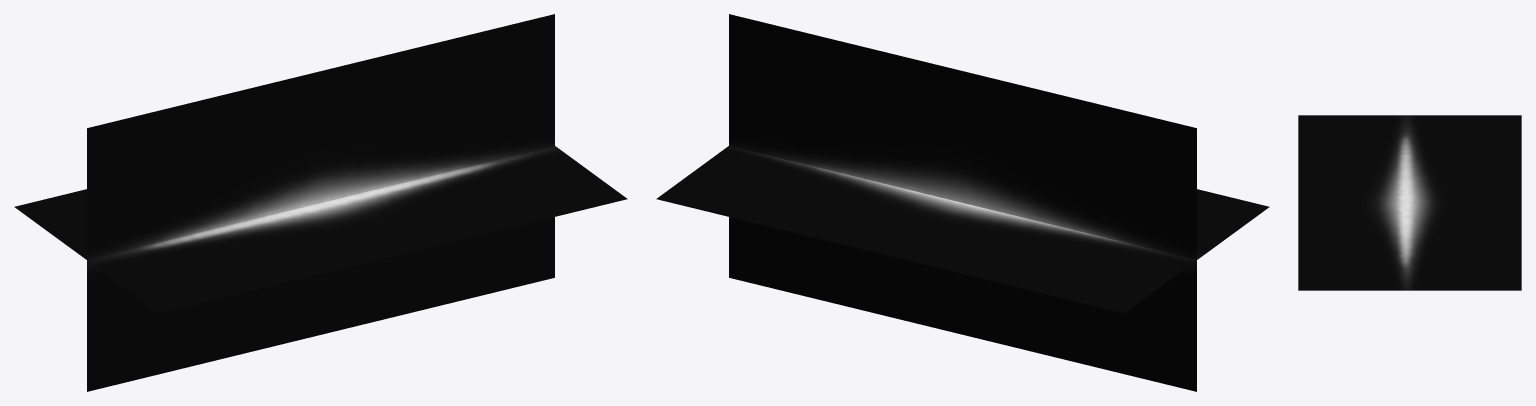
File: ef_shizimianpian_01_dr_hmm.FBX
3 renders of one model, left to right at view 1: azimuth 30°, elevation 25°; view 2: azimuth 150°, elevation 25°; view 3: azimuth 270°, elevation 25°, orthographic. The views are drawn at different scales.
Visible parts, largest first — view 1: Plane002; view 2: Plane002; view 3: Plane002.
Part boxes in pixels (left/top/right/bottom): Plane002: left=14, top=14, right=627, bottom=391; Plane002: left=656, top=14, right=1269, bottom=391; Plane002: left=1298, top=115, right=1521, bottom=290.
Size of the model in its own units: 44.99 by 24.21 by 24.21.
